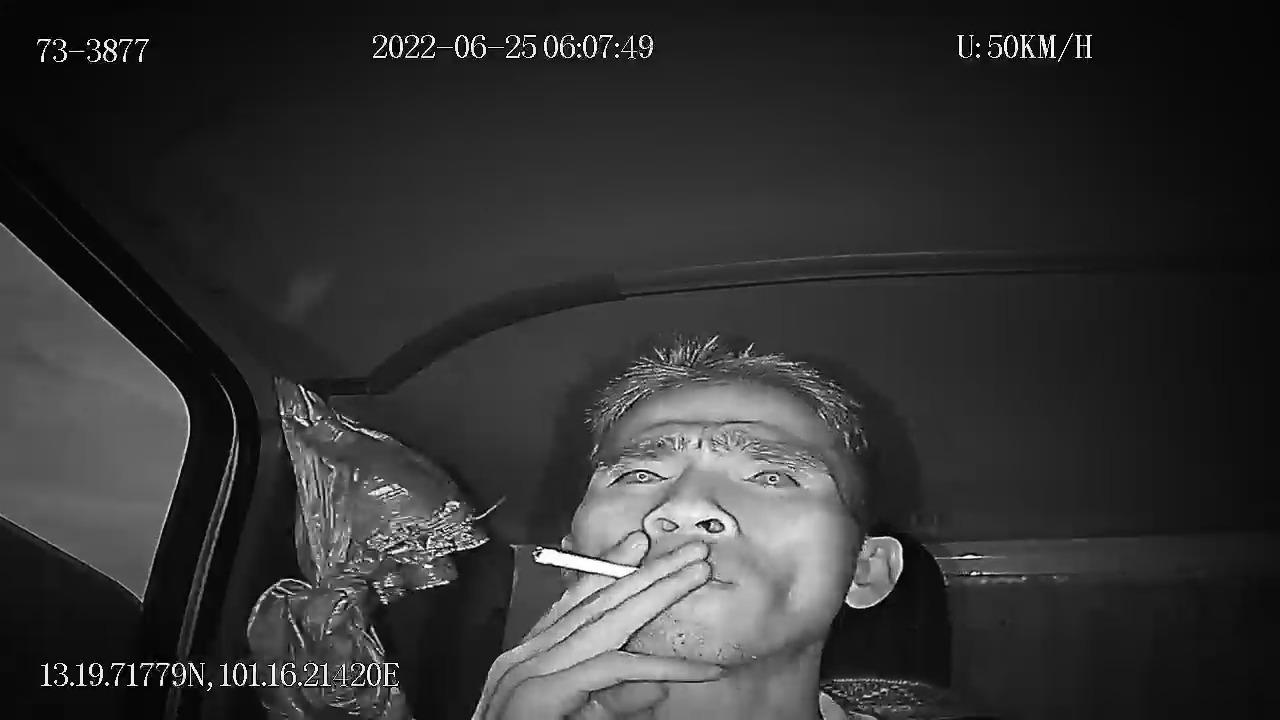Smoking: (512, 527, 644, 591)
